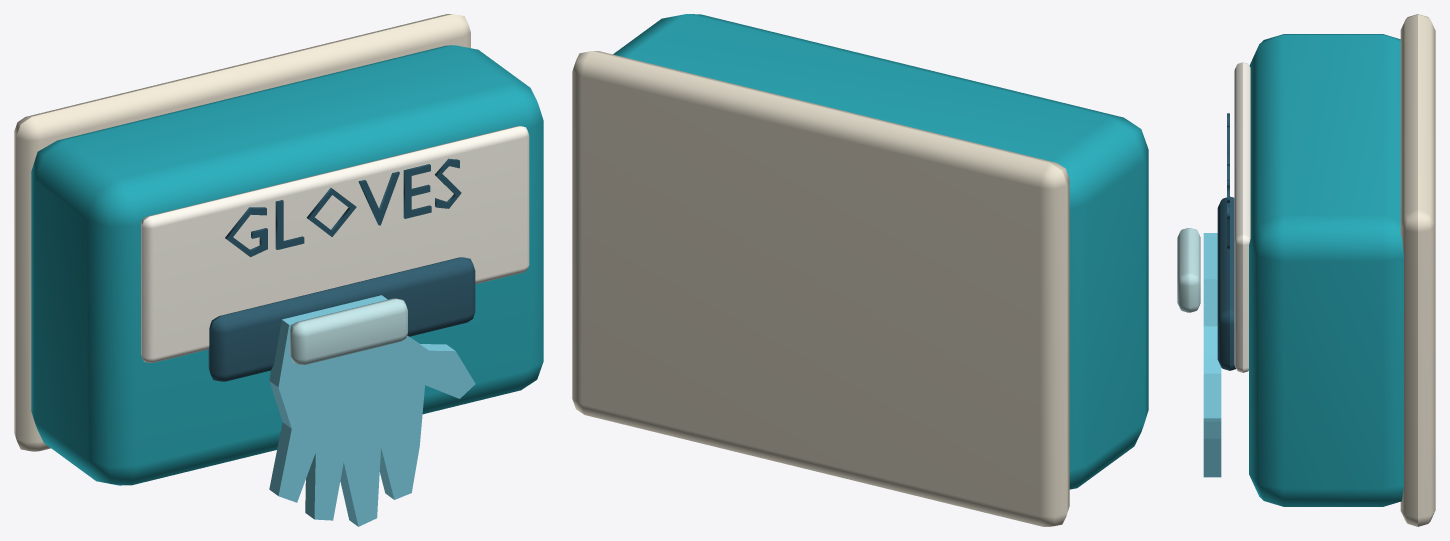
Rendered from Clinical_Glove_Dispenser.glb.
The picture shows the model from 3 angles, left to right: view 1: azimuth 30°, elevation 25°; view 2: azimuth 150°, elevation 25°; view 3: azimuth 270°, elevation 25°; orthographic projection. The views are drawn at different scales.
Visible parts, largest first — view 1: Clinical_Glove_Dispenser_teal, Clinical_Glove_Dispenser_paper, Clinical_Glove_Dispenser_nitrile blue, Clinical_Glove_Dispenser_cream, Clinical_Glove_Dispenser_navy, Clinical_Glove_Dispenser_pale; view 2: Clinical_Glove_Dispenser_cream, Clinical_Glove_Dispenser_teal; view 3: Clinical_Glove_Dispenser_teal, Clinical_Glove_Dispenser_cream, Clinical_Glove_Dispenser_paper, Clinical_Glove_Dispenser_nitrile blue, Clinical_Glove_Dispenser_navy, Clinical_Glove_Dispenser_pale.
Boxes of the visible parts, box(x1,y1,x2,y2) form: Clinical_Glove_Dispenser_teal: box(31, 45, 543, 485); Clinical_Glove_Dispenser_paper: box(141, 126, 529, 362); Clinical_Glove_Dispenser_nitrile blue: box(269, 295, 475, 526); Clinical_Glove_Dispenser_cream: box(14, 14, 470, 451); Clinical_Glove_Dispenser_navy: box(208, 158, 475, 381); Clinical_Glove_Dispenser_pale: box(289, 298, 407, 364); Clinical_Glove_Dispenser_cream: box(572, 51, 1069, 526); Clinical_Glove_Dispenser_teal: box(613, 14, 1148, 489); Clinical_Glove_Dispenser_teal: box(1249, 34, 1403, 506); Clinical_Glove_Dispenser_cream: box(1400, 14, 1435, 526); Clinical_Glove_Dispenser_paper: box(1234, 62, 1250, 372); Clinical_Glove_Dispenser_nitrile blue: box(1203, 233, 1221, 477); Clinical_Glove_Dispenser_navy: box(1217, 113, 1235, 370); Clinical_Glove_Dispenser_pale: box(1177, 228, 1200, 312).
Size of the model in its own units: 0.34 by 0.272 by 0.177.
